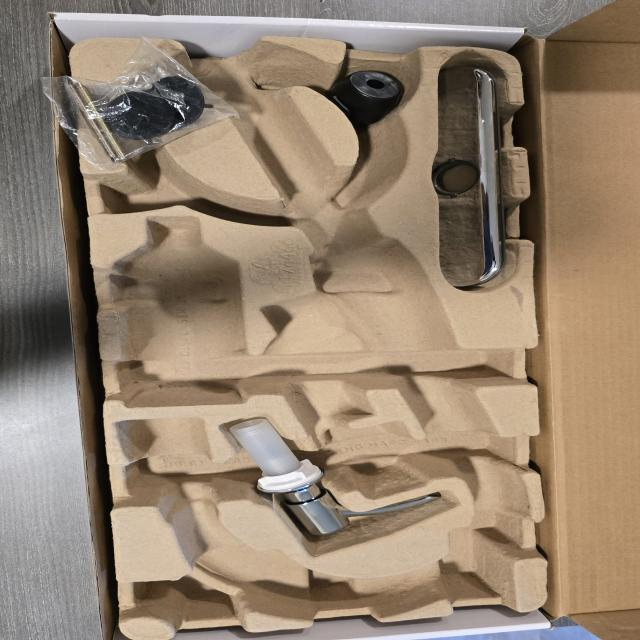1m: (120, 37, 529, 619)
2: (229, 419, 439, 537)
3m: (114, 214, 244, 406)
4: (432, 65, 505, 287)
5: (331, 72, 405, 127)
6m: (102, 155, 245, 222)
7: (32, 35, 244, 171)
